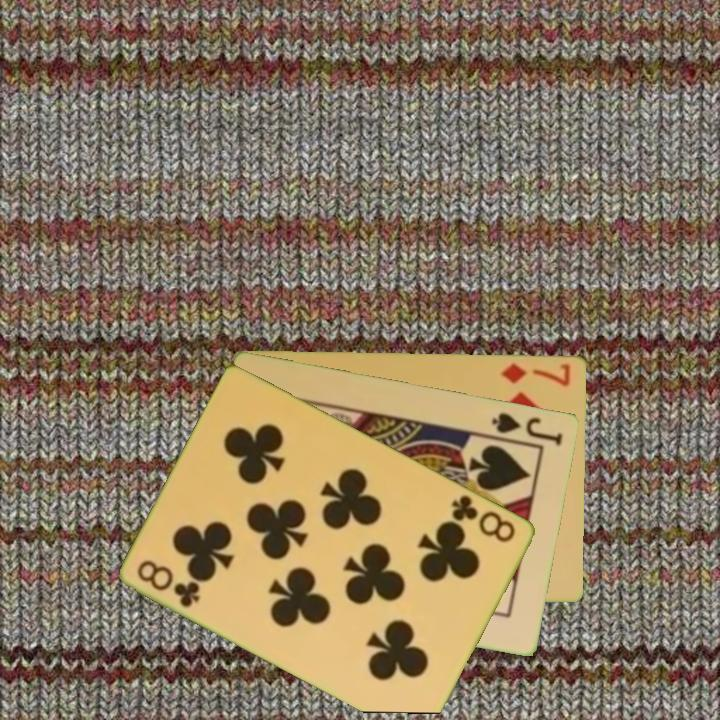7d: (498, 359, 573, 389)
8c: (448, 490, 519, 545), (134, 556, 204, 611)
Js: (488, 409, 566, 448)
